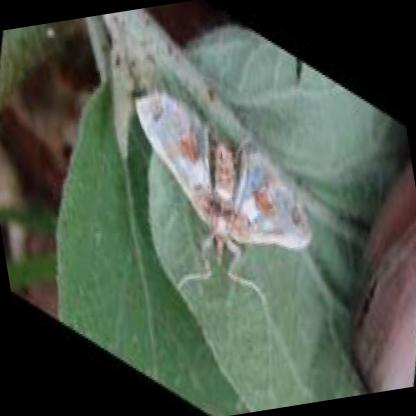leucinodes: (136, 91, 317, 267)
